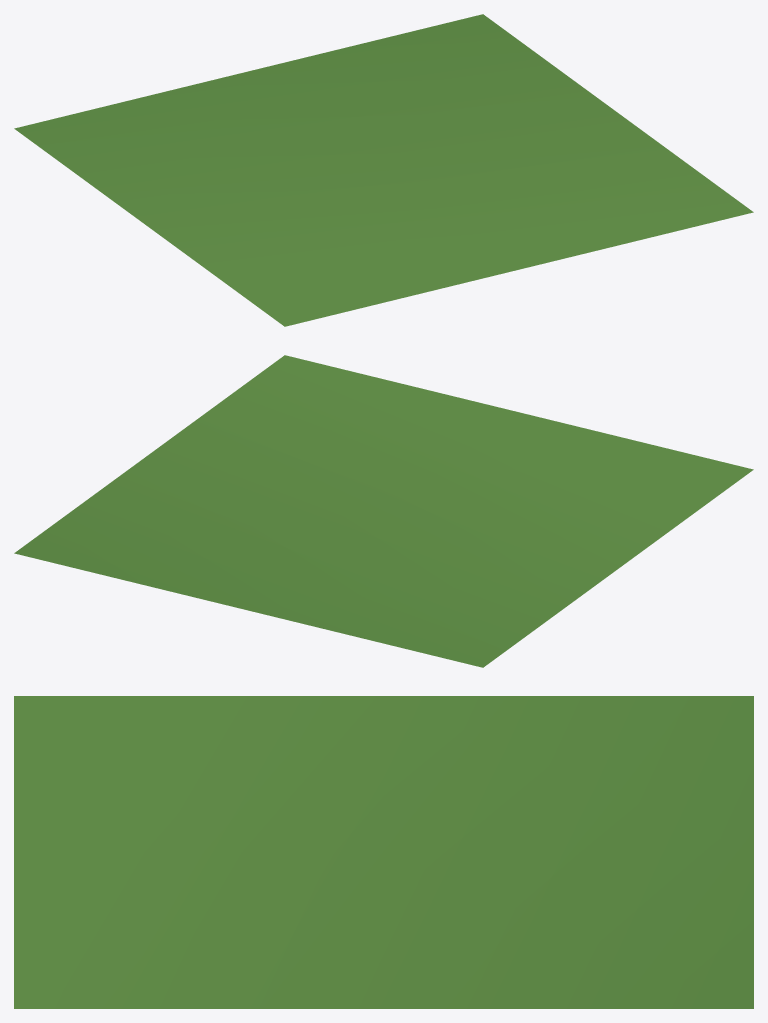
Rendered from terrain_6_0_2.glb.
The picture shows the model from 3 angles, top to bottom: view 1: azimuth 30°, elevation 25°; view 2: azimuth 150°, elevation 25°; view 3: azimuth 270°, elevation 25°; orthographic projection. The views are drawn at different scales.
Parts seen in each view (by area): view 1: m; view 2: m; view 3: m.
Boxes of the visible parts, left/top/right/bottom form: m: left=14, top=14, right=753, bottom=326; m: left=14, top=355, right=753, bottom=667; m: left=14, top=696, right=753, bottom=1008.
Bounding box in the file's own units: 4 × 0 × 4.
